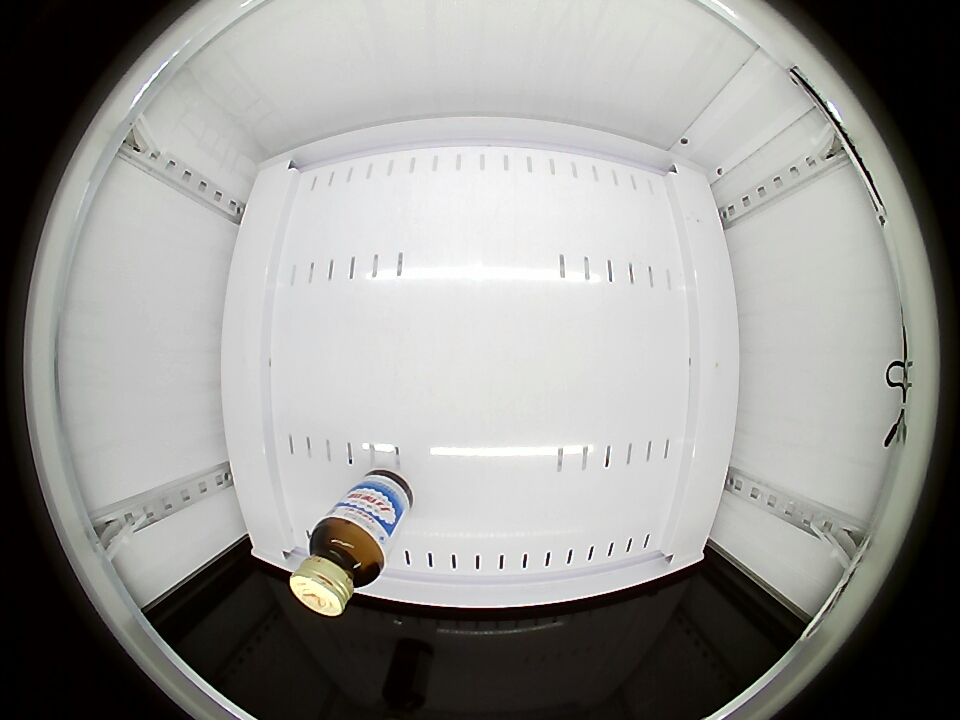libaojian: (290, 517, 386, 617)
